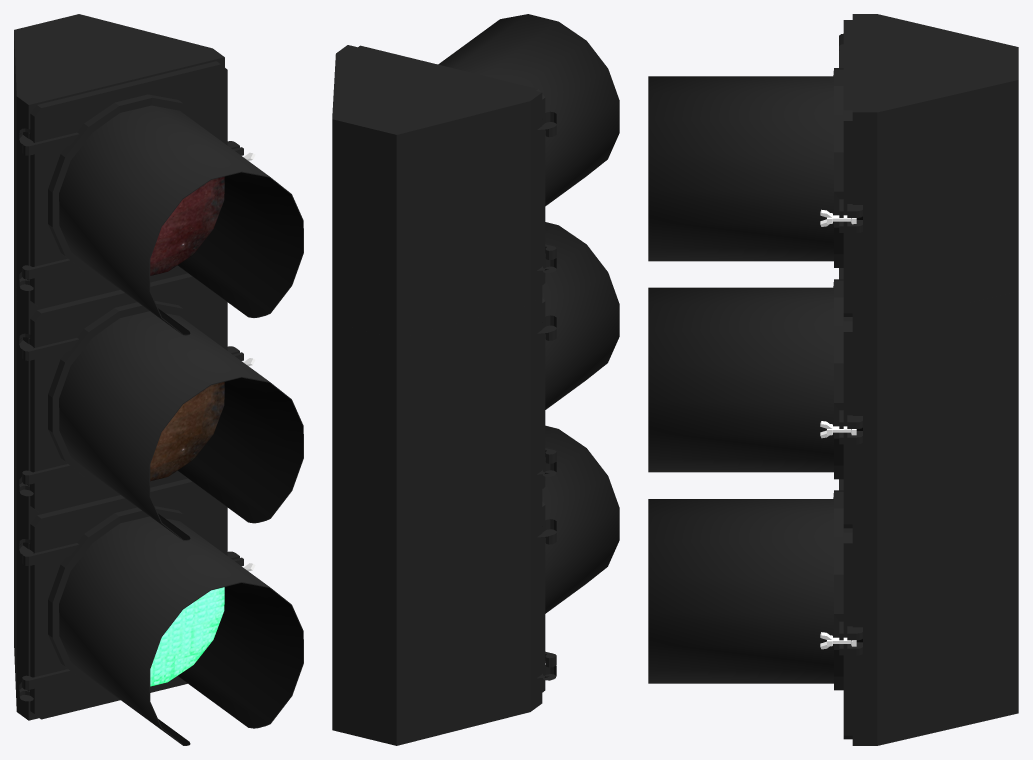
Rendered from green.gltf.
3 renders of one model, left to right at view 1: azimuth 30°, elevation 25°; view 2: azimuth 150°, elevation 25°; view 3: azimuth 270°, elevation 25°, orthographic. The views are drawn at different scales.
Parts seen in each view (by area): view 1: Cylinder.315; view 2: Cylinder.315; view 3: Cylinder.315.
Part boxes in pixels (x1,y1,x2,y2): Cylinder.315: (14,14,303,745); Cylinder.315: (332,14,619,745); Cylinder.315: (648,14,1018,745).
Size of the model in its own units: 0.3053 by 0.8096 by 0.4291.
Materials: 7 (3 with a texture image).
